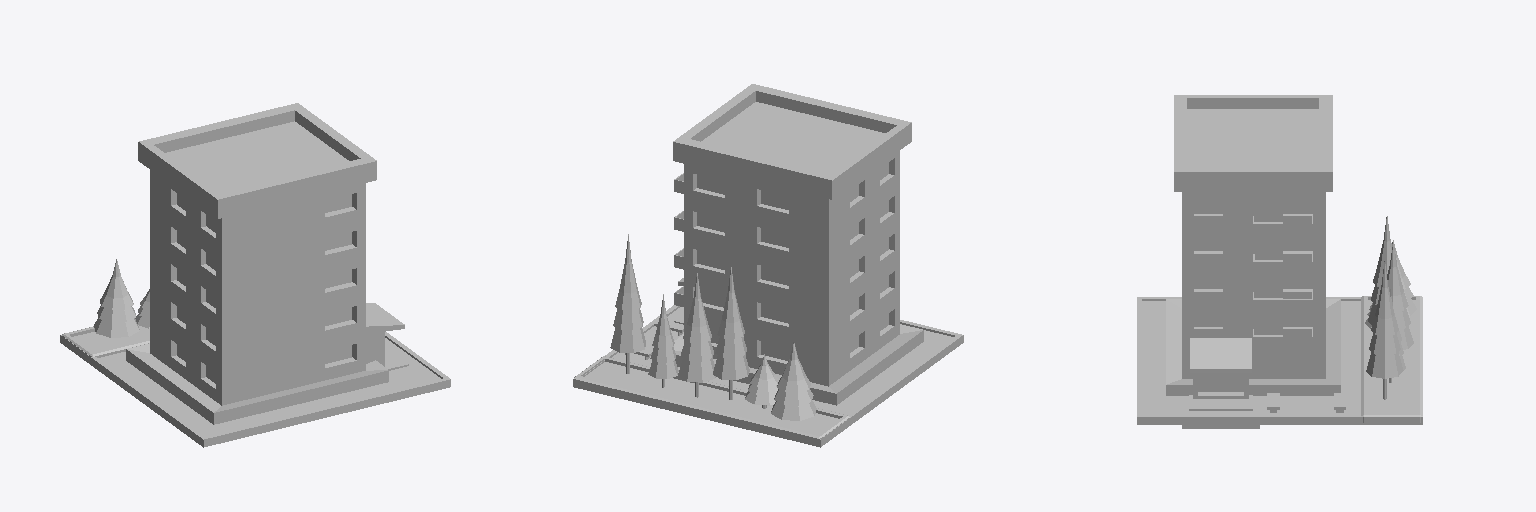
Rendered from building1.obj.
3 renders of one model, left to right at view 1: azimuth 30°, elevation 25°; view 2: azimuth 150°, elevation 25°; view 3: azimuth 270°, elevation 25°, orthographic.
Parts seen in each view (by area): view 1: House_2, Floor_4_2, Firtree_47, Cube_7; view 2: House_2, Cube_7, Floor_4_2, Firtree_1, Firtree_4, Firtree_2, Firtree_47, Firtree, Firtree_3; view 3: House_2, Floor_4_2, Cube_7, Firtree_4, Firtree_1, Firtree_2.
Part boxes in pixels (x1,y1,x2,y2): House_2: (126,103,408,424); Floor_4_2: (60,332,450,447); Firtree_47: (94,259,139,337); Cube_7: (62,325,149,357); House_2: (673,84,923,405); Cube_7: (574,356,849,444); Floor_4_2: (573,305,963,447); Firtree_1: (677,273,715,397); Firtree_4: (610,234,645,373); Firtree_2: (713,267,749,399); Firtree_47: (771,342,816,420); Firtree: (648,294,678,387); Firtree_3: (745,354,778,408); House_2: (1166,95,1340,428); Floor_4_2: (1137,297,1422,424); Cube_7: (1361,296,1422,422); Firtree_4: (1366,261,1403,399); Firtree_1: (1387,240,1413,349); Firtree_2: (1368,216,1391,324).
Bounding box in the file's own units: 1.67 × 1.51 × 1.67.